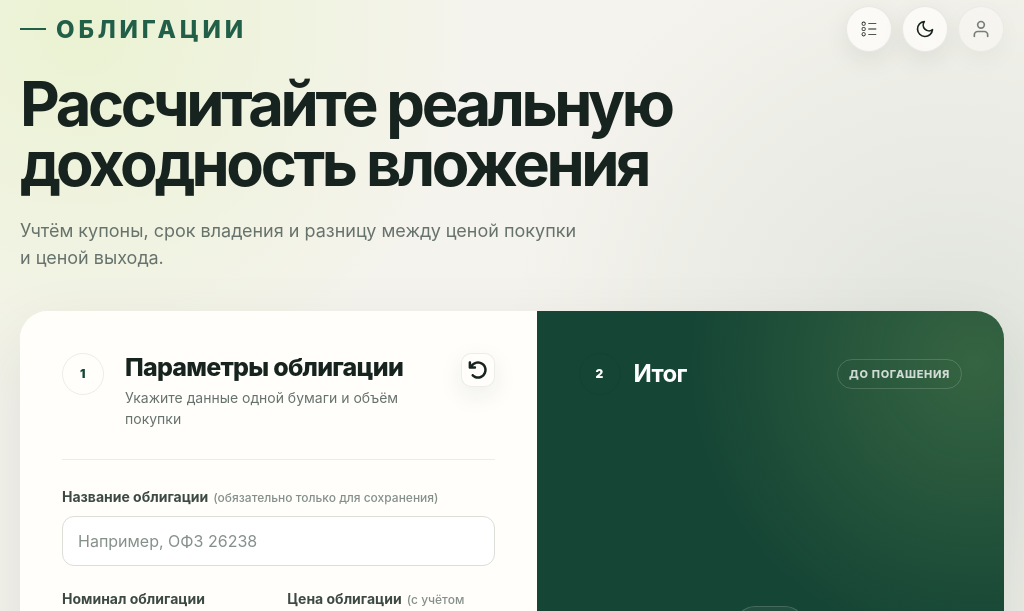
Test: BondCalculatorPage › saves, restores and deletes a preset through the dropdown
Type "ОФЗ 26238" into the field labelled "Название облигации(обязательно только для сохранения)" at [278, 541], box top-left (62, 516), bottom-right (495, 566)
(page scrolled)
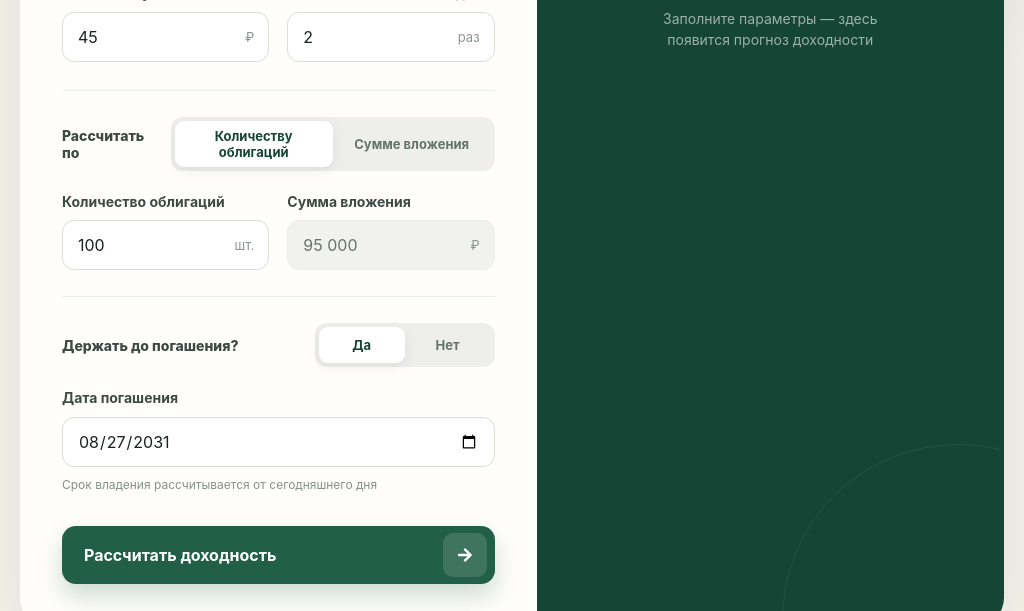
Click the button "Рассчитать доходность" at [278, 555], box top-left (62, 526), bottom-right (495, 584)
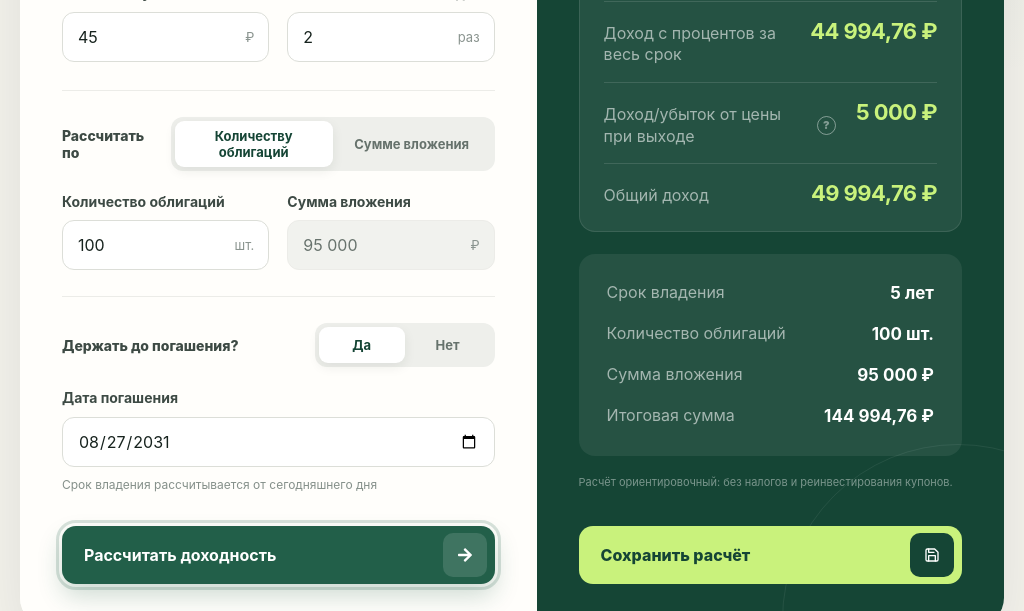
Click the button "Сохранить расчёт" at [675, 555], box top-left (579, 526), bottom-right (962, 584)
(page scrolled)
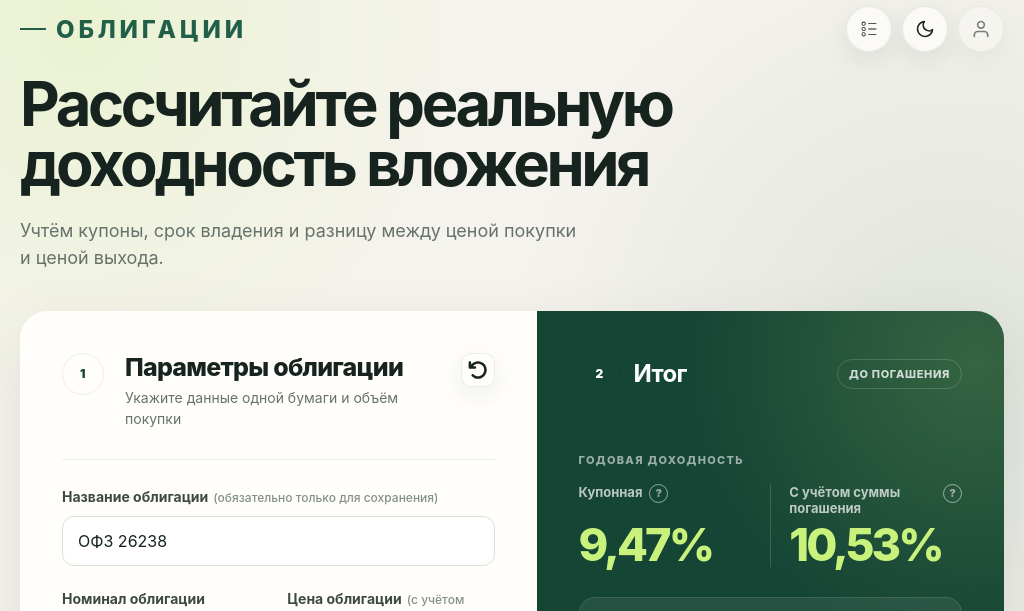
Click the button named "Открыть сохранённые расчёты" at [869, 29], box top-left (846, 6), bottom-right (892, 52)
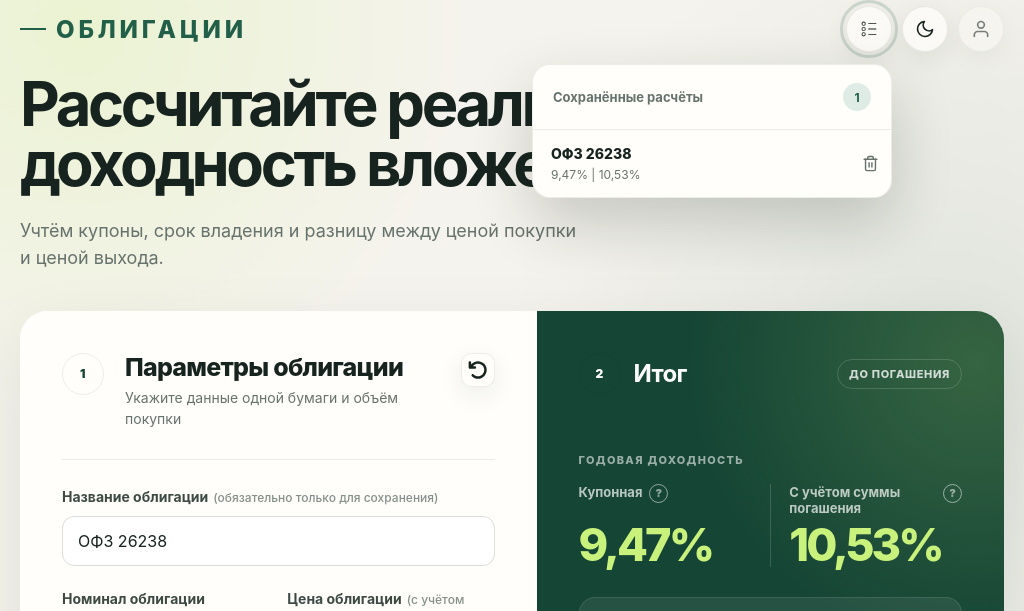
expect the text "ОФЗ 26238" is shown: met, box top-left (551, 145), bottom-right (631, 162)
Click the button named "Удалить расчёт «ОФЗ 26238»" at [870, 164], box top-left (849, 130), bottom-right (891, 197)
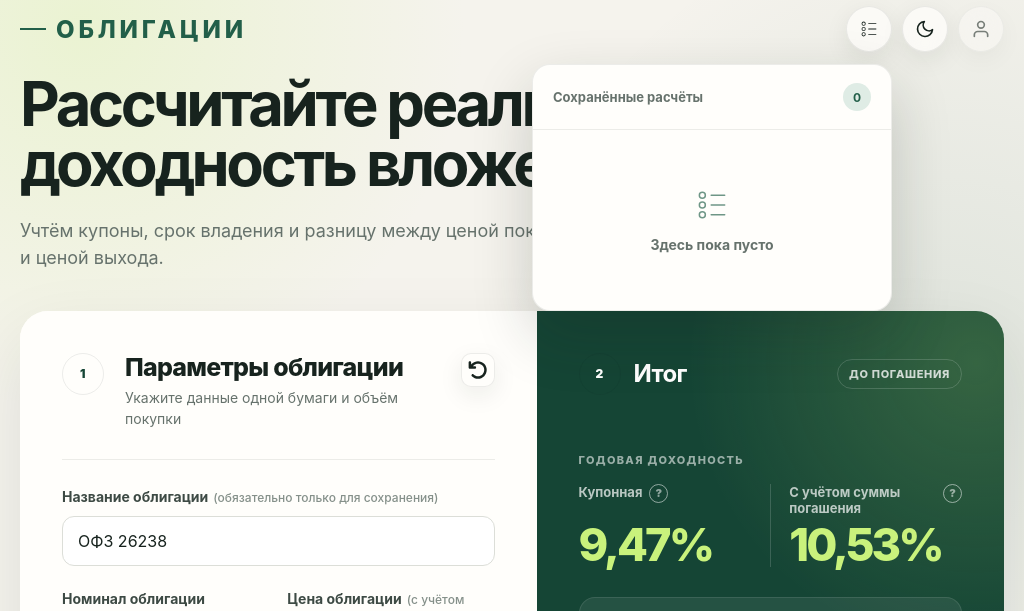
expect the text "Здесь пока пусто" is shown: met, box top-left (650, 236), bottom-right (774, 253)
